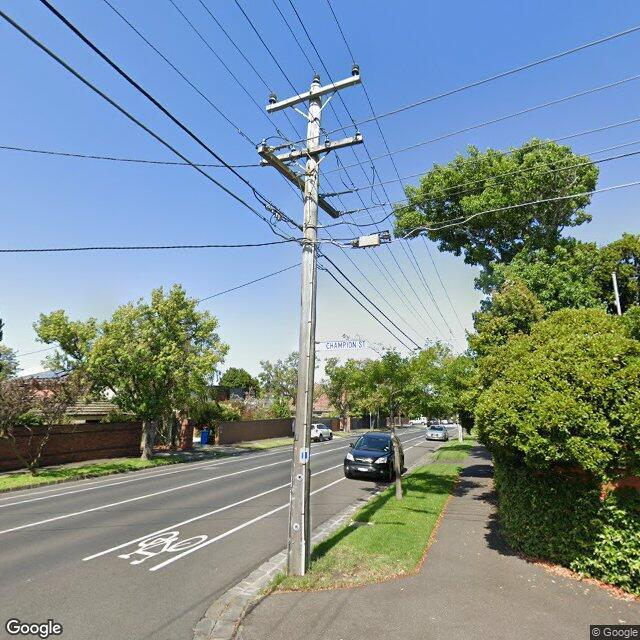HV-transmission: (269, 64, 359, 103)
crossarm: (258, 144, 339, 218), (266, 75, 362, 112), (260, 134, 363, 166)
timber-pole: (287, 82, 321, 578)
